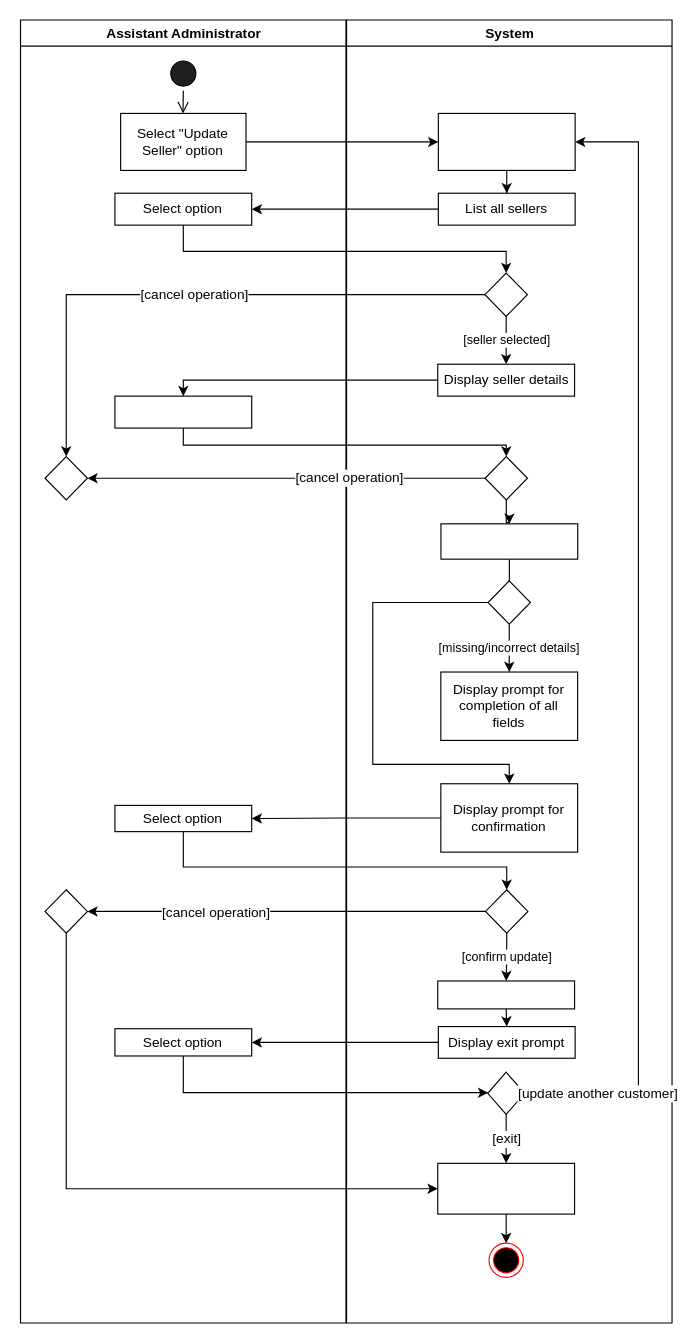
This 697x1343 diagram has some shape labels left out. Each missing label, with the centre of its shape:
Close "Update Seller" form: the point at 506,1188
Display "Update Seller" form: the point at 506,141
Save seller details: the point at 506,994
Update seller details: the point at 183,411
Validate details: the point at 509,541
